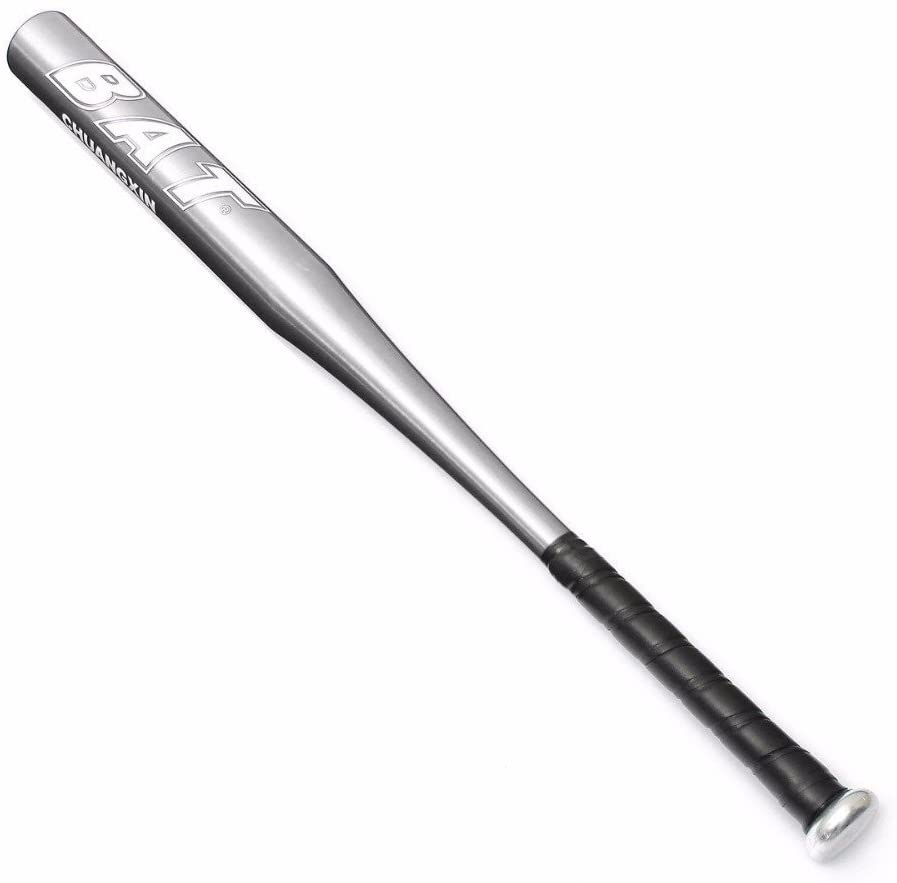bat: (0, 0, 877, 865)
